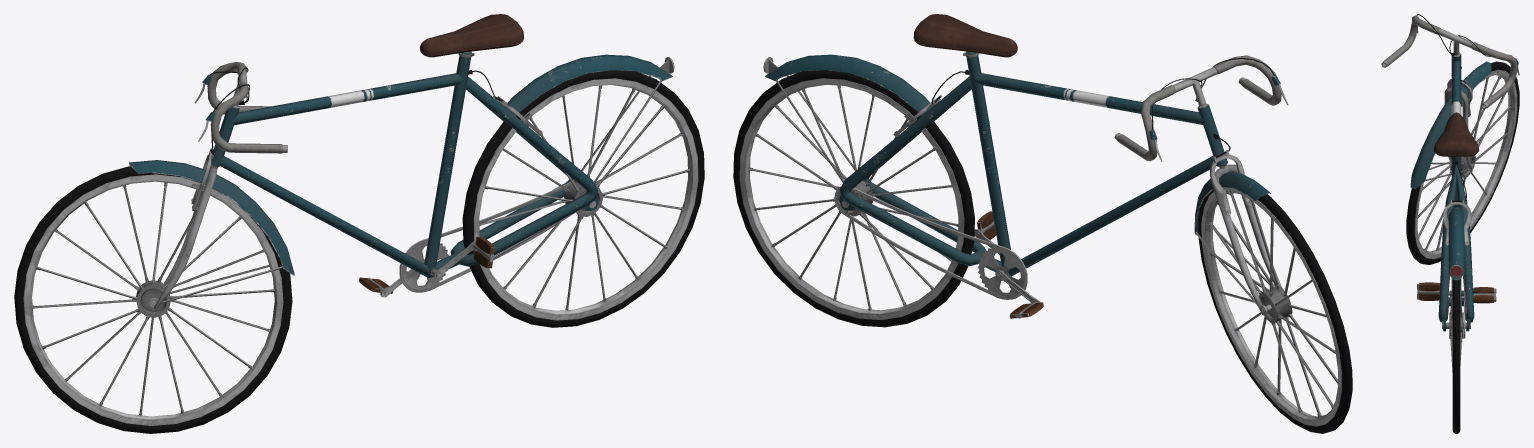
The model's file is Vélo.fbx.
3 renders of one model, left to right at view 1: azimuth 30°, elevation 25°; view 2: azimuth 150°, elevation 25°; view 3: azimuth 270°, elevation 25°, orthographic. The views are drawn at different scales.
Parts seen in each view (by area): view 1: Cadre, Roue AR.001, Roue AR, Guidon, Pédales, Chaine; view 2: Cadre, Roue AR, Roue AR.001, Guidon, Pédales, Chaine; view 3: Cadre, Roue AR.001, Guidon, Roue AR, Pédales.
Boxes of the visible parts, left/top/right/bottom form: Cadre: left=211, top=14, right=674, bottom=277; Roue AR.001: left=14, top=166, right=292, bottom=433; Roue AR: left=462, top=70, right=704, bottom=327; Guidon: left=129, top=62, right=294, bottom=309; Pédales: left=359, top=236, right=494, bottom=297; Chaine: left=399, top=180, right=575, bottom=292; Cadre: left=763, top=14, right=1227, bottom=276; Roue AR: left=733, top=70, right=974, bottom=327; Roue AR.001: left=1198, top=187, right=1352, bottom=433; Guidon: left=1114, top=55, right=1289, bottom=315; Pédales: left=974, top=211, right=1043, bottom=318; Chaine: left=834, top=187, right=1027, bottom=299; Cadre: left=1433, top=52, right=1479, bottom=331; Roue AR.001: left=1406, top=61, right=1519, bottom=264; Guidon: left=1381, top=14, right=1519, bottom=188; Roue AR: left=1449, top=279, right=1463, bottom=433; Pédales: left=1417, top=282, right=1496, bottom=303.
Bounding box in the file's own units: 1259 × 627 × 296.
